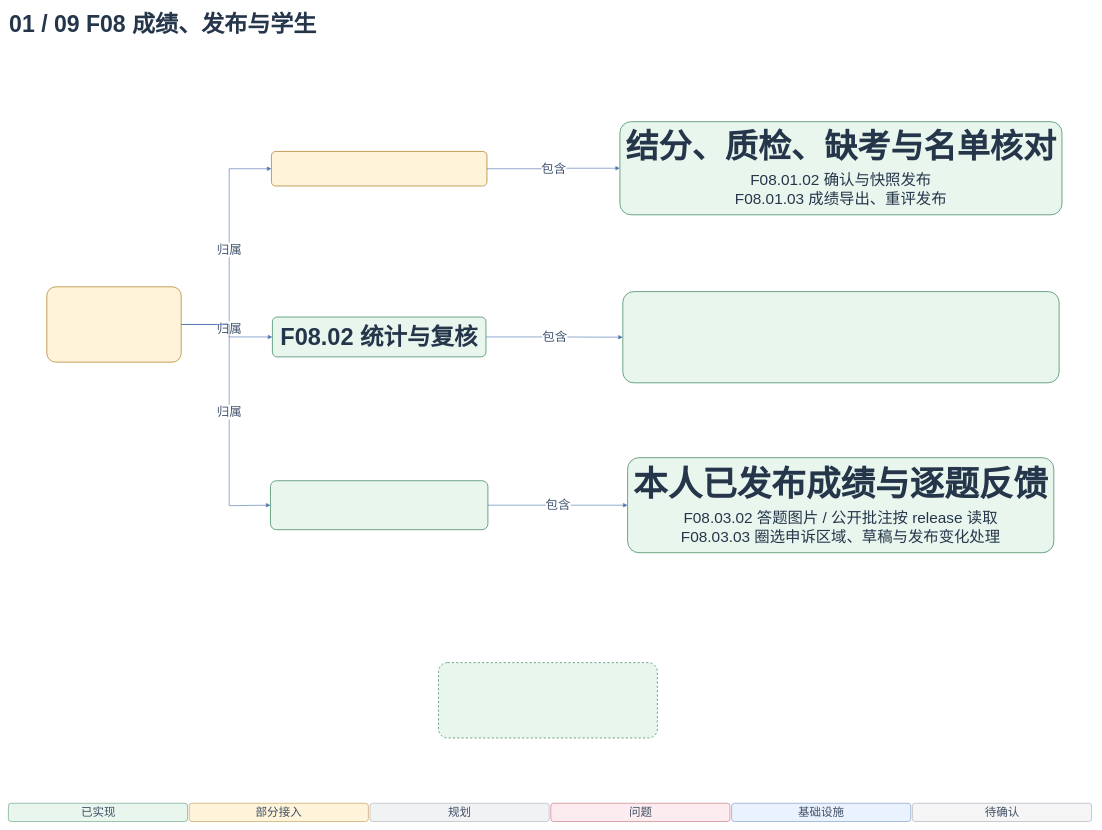
The diagram is 1102 pixels wide and 830 high, and some of its shapes have lost their labels. The shapes that lost their labels are listed below. From the top down, each one's centre as x and y in pixels, then its label:
the point at 379,168: F08.01 成绩汇总与发布
the point at 113,324: F08 成绩、发布与学生
the point at 840,337: 考试/班级/题目/阅卷质量报告 F08.02.02 成绩复核分派、教师建议与决定 F08.02.03 公开逐题申诉、重评与新版本关联
the point at 379,505: F08.03 学生端
the point at 548,700: 统一发布快照 统一学生可见性
